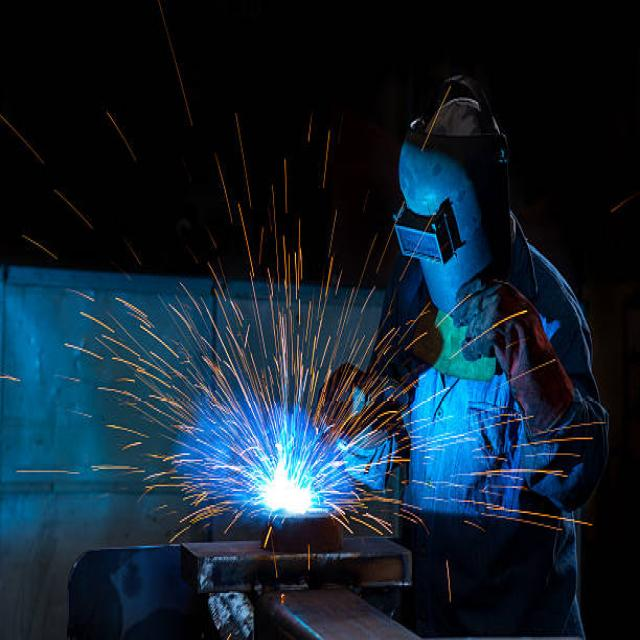welding: (262, 459, 314, 515)
